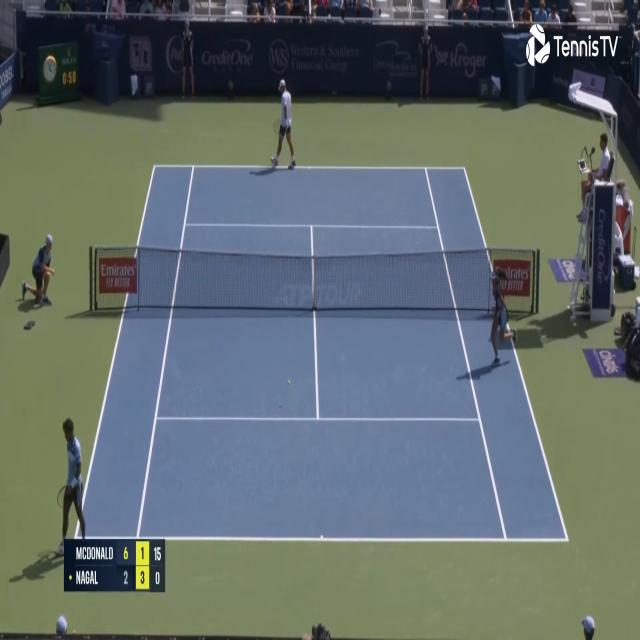tennis-player: (49, 413, 89, 562), (268, 76, 298, 172)
